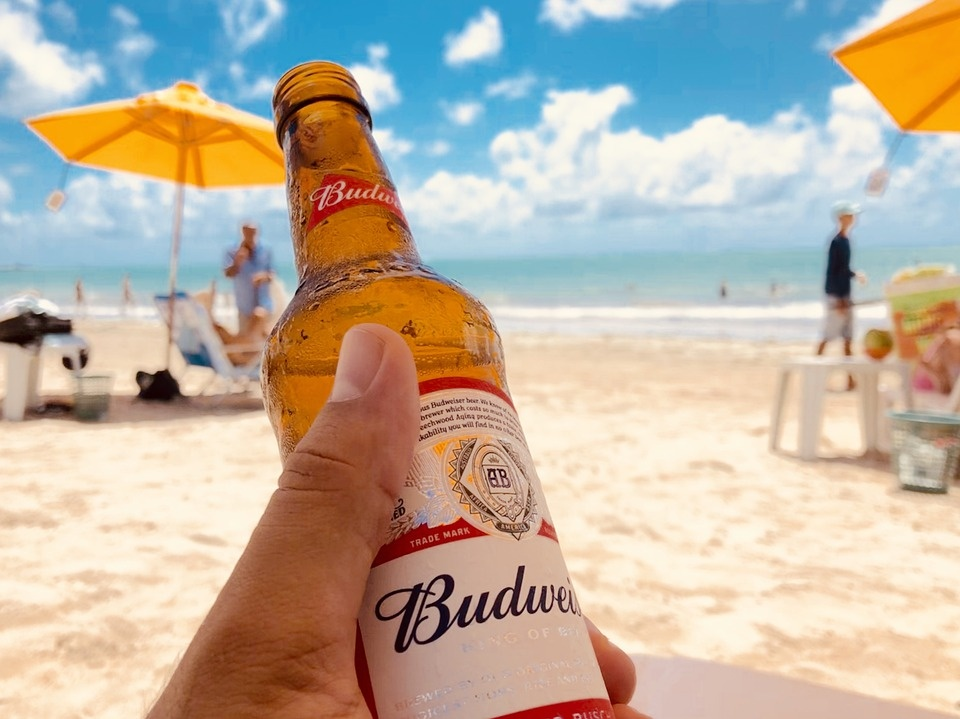beerBottle: (256, 57, 613, 719)
